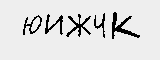Ж: (66, 13, 94, 37)
И: (44, 14, 64, 36)
К: (108, 12, 141, 40)
Ч: (91, 12, 108, 36)
Ю: (18, 12, 42, 37)
